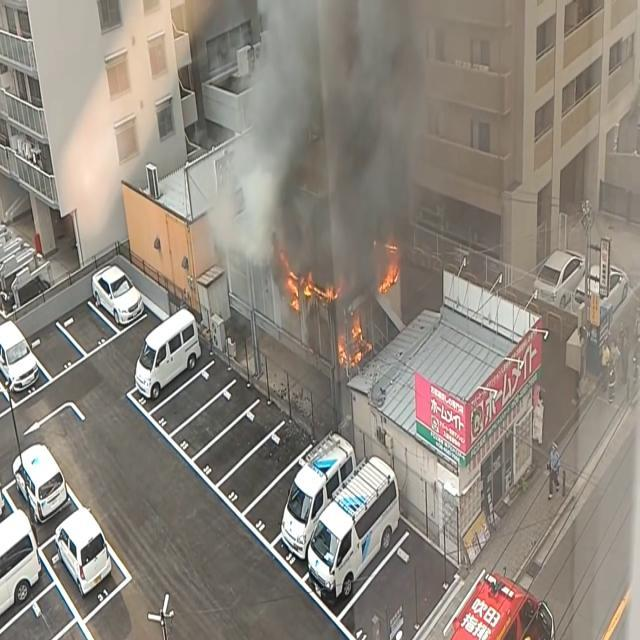Fire: (280, 262, 340, 310), (337, 306, 369, 371)
Smoke: (194, 0, 448, 305)
